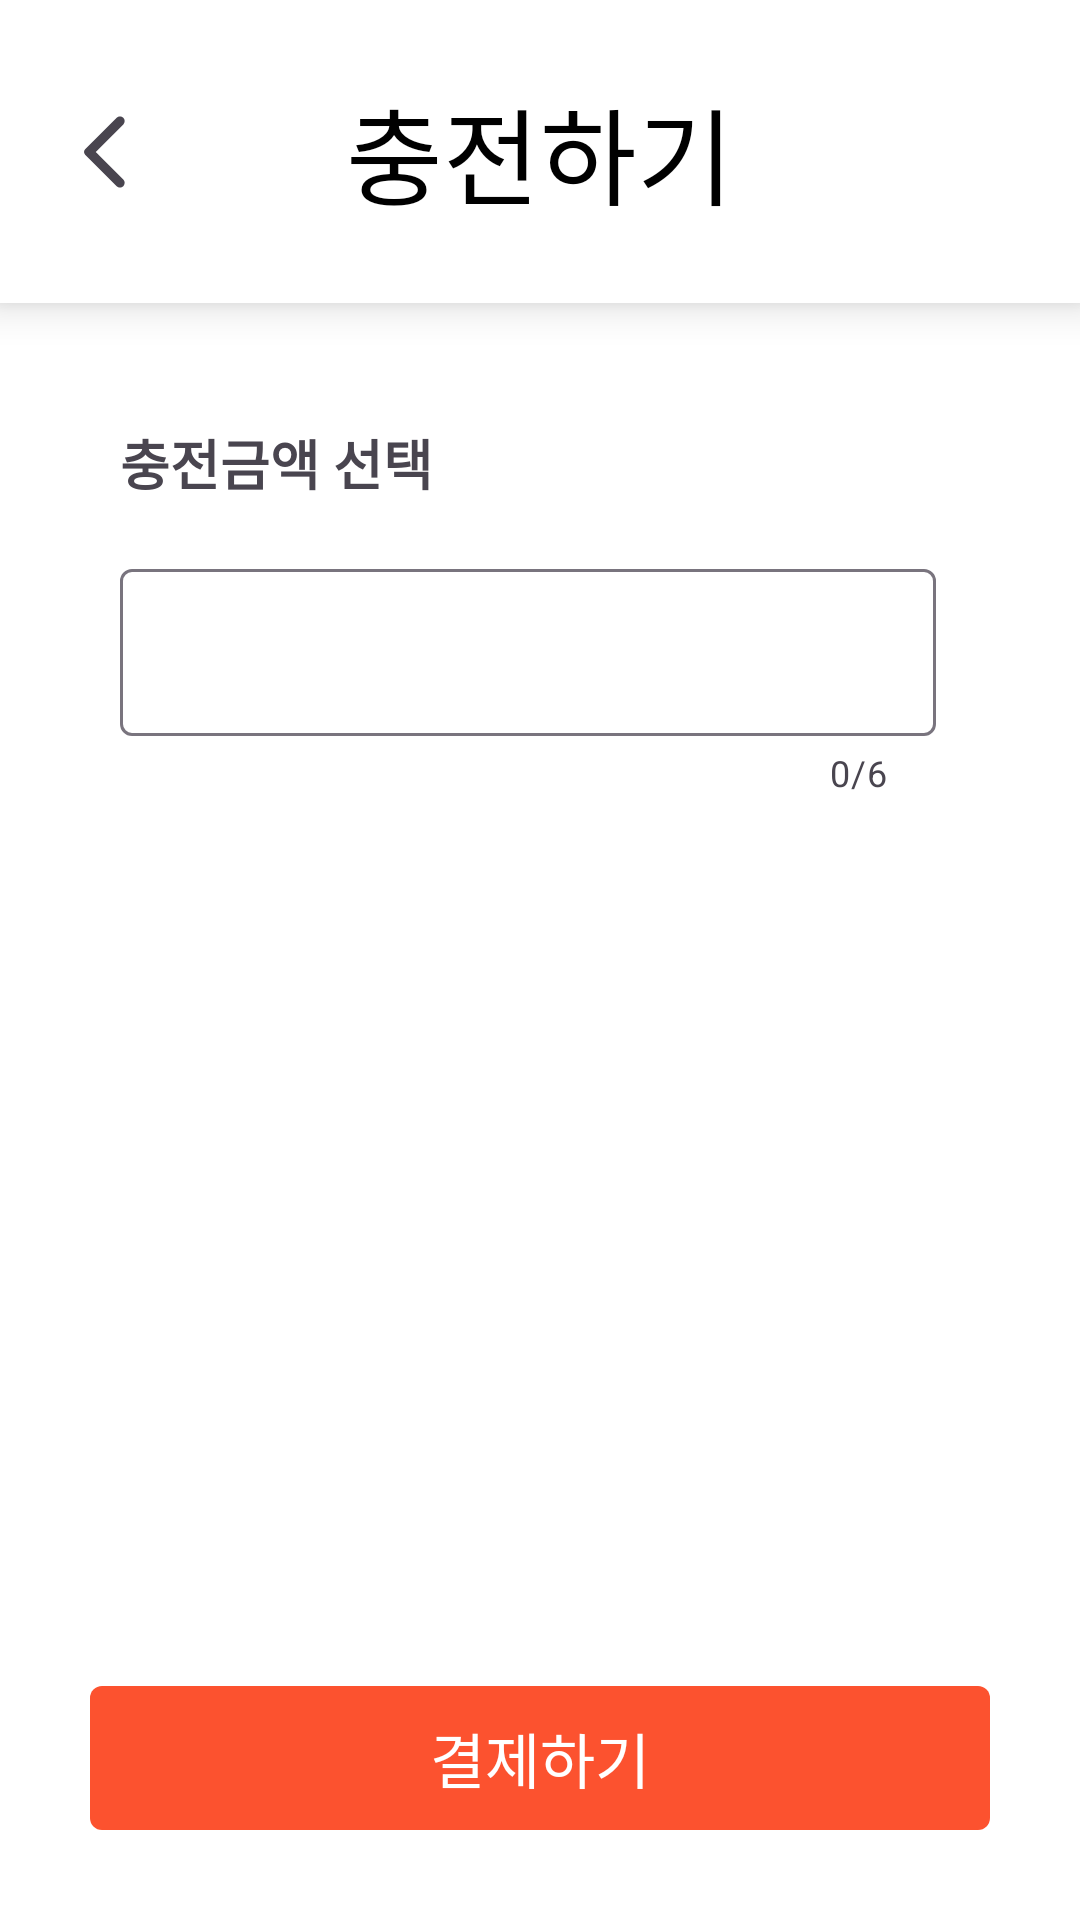

Named icons in this screenshot (1080×1920) and their centers, point (x, y):
back: point (104, 152)
